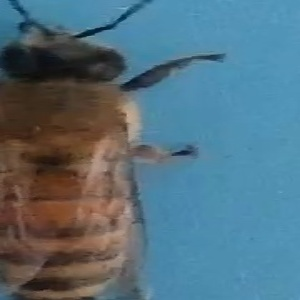bee: (3, 1, 232, 300)
